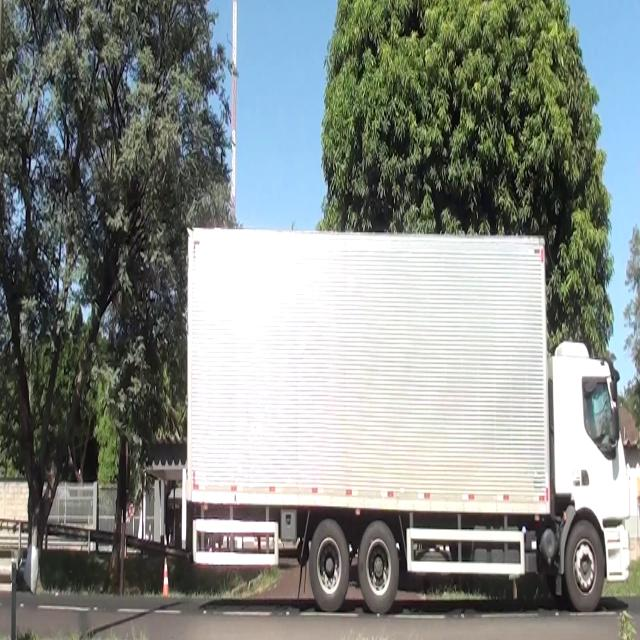-axle: (565, 517, 605, 615), (359, 520, 399, 616), (310, 520, 350, 614)
